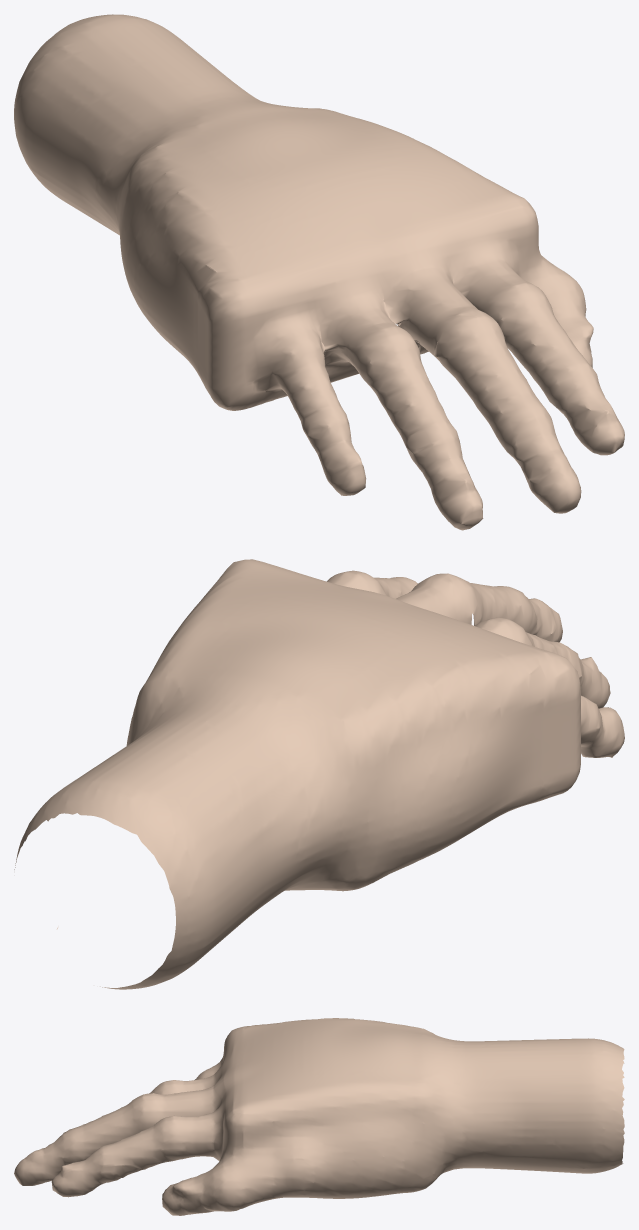
Rendered from deity_hand_rest.glb.
The picture shows the model from 3 angles, top to bottom: view 1: azimuth 30°, elevation 25°; view 2: azimuth 150°, elevation 25°; view 3: azimuth 270°, elevation 25°; orthographic projection. The views are drawn at different scales.
Parts seen in each view (by area): view 1: DeityHandRest; view 2: DeityHandRest; view 3: DeityHandRest.
Part boxes in pixels (bbox=[...]): DeityHandRest: bbox=[14, 14, 624, 530]; DeityHandRest: bbox=[14, 559, 624, 989]; DeityHandRest: bbox=[14, 1018, 624, 1215].
Bounding box in the file's own units: 0.1095 × 0.0633 × 0.2387.
